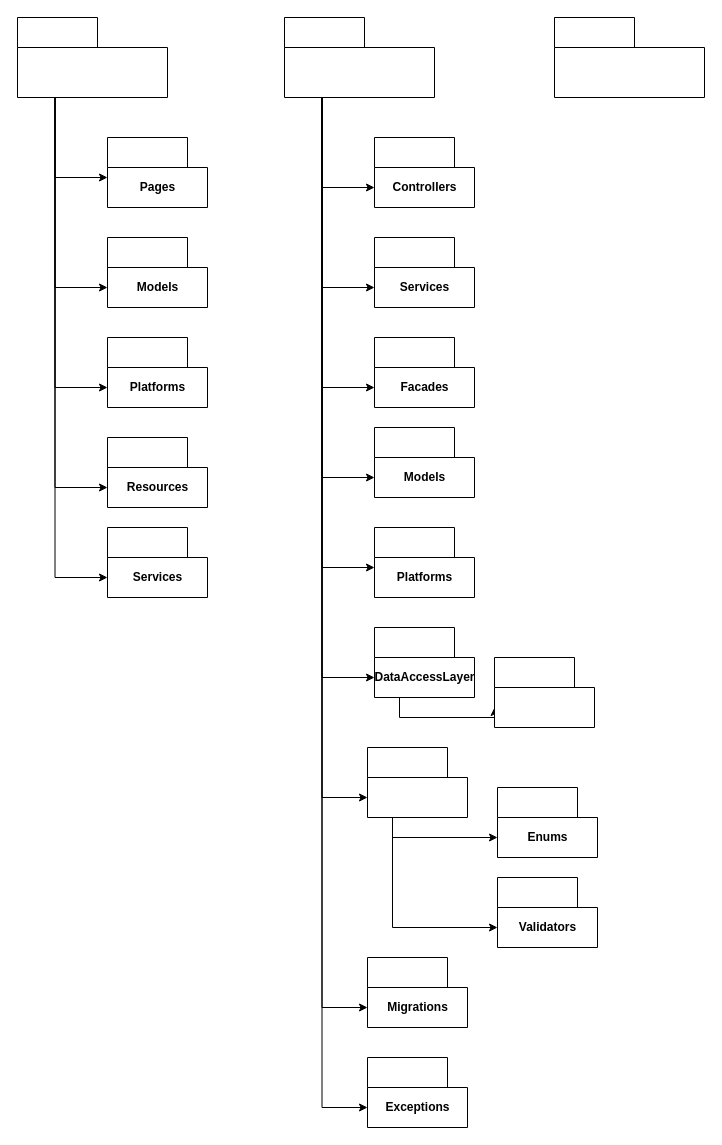
The diagram is 722 pixels wide and 1145 high, and some of its shapes have lost their labels. The centre of each missing label's shape, as x and y in pixels:
Common: pixel 417 782
Dtos: pixel 544 692
FrontendApplication: pixel 92 57
Rommiebill.Server: pixel 359 57
ServerTests: pixel 629 57
